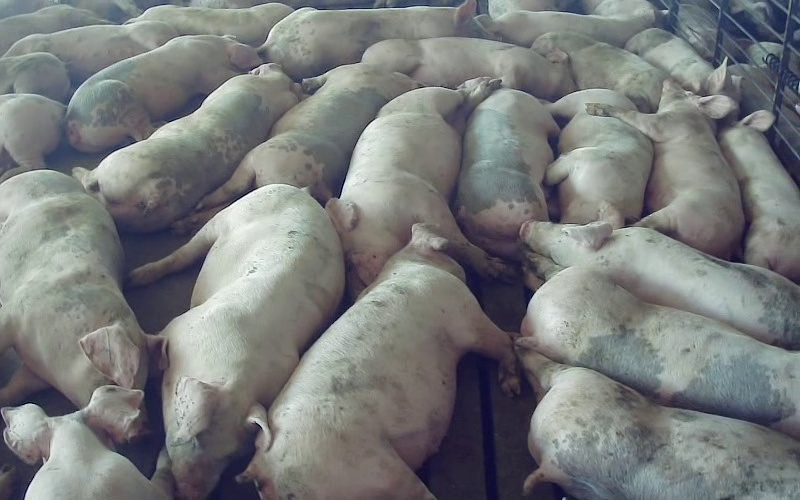pig: (241, 226, 518, 499), (131, 184, 344, 499), (519, 254, 799, 437), (519, 351, 799, 499), (73, 65, 299, 232), (326, 78, 503, 291), (521, 221, 799, 349), (199, 63, 416, 207), (587, 80, 744, 259), (258, 0, 493, 80), (454, 88, 558, 259), (545, 89, 651, 227), (718, 110, 799, 282), (362, 37, 575, 100), (5, 21, 177, 86), (531, 32, 668, 112), (625, 28, 741, 100), (132, 3, 293, 46), (477, 11, 654, 46)
